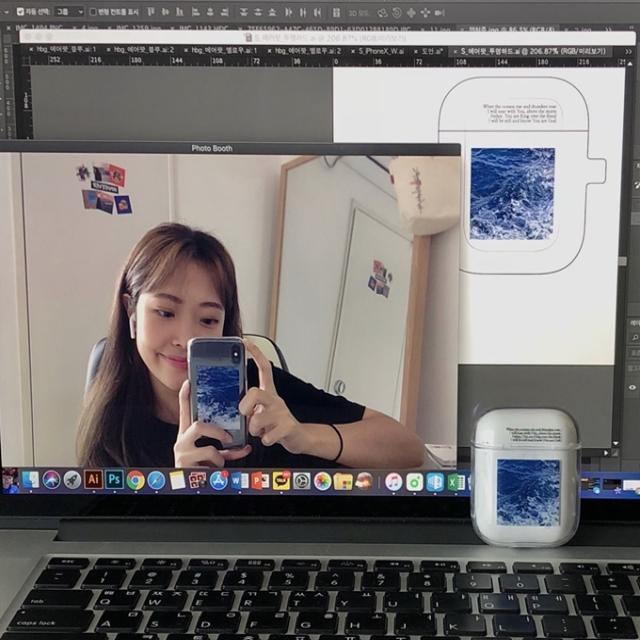earphone: (447, 394, 585, 544), (123, 310, 142, 358)
laptop_computer: (0, 1, 640, 640)
smart phone: (185, 337, 268, 450)
